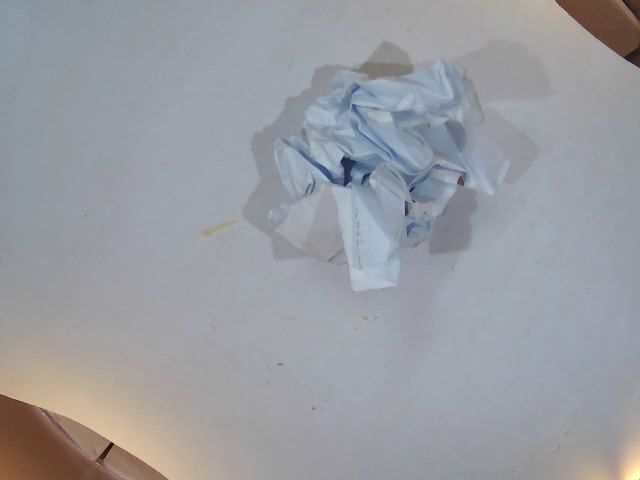paper: (234, 54, 512, 307)
